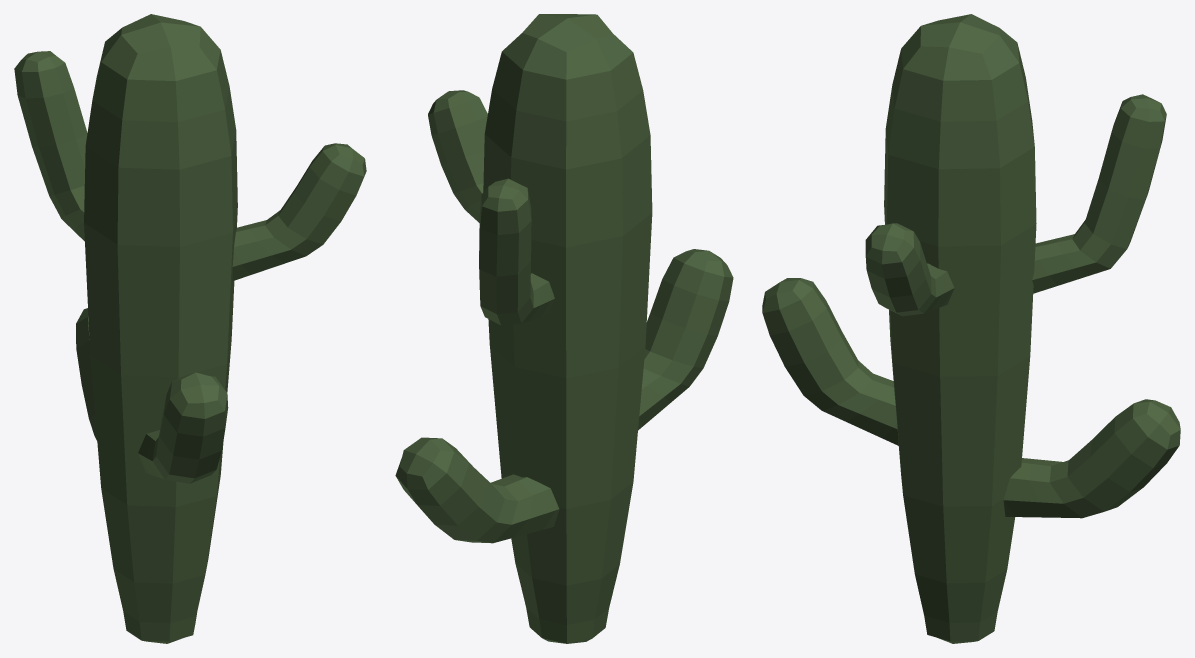
The model's file is Cactus_2.gltf.
The picture shows the model from 3 angles, left to right: view 1: azimuth 30°, elevation 25°; view 2: azimuth 150°, elevation 25°; view 3: azimuth 270°, elevation 25°; orthographic projection.
Parts seen in each view (by area): view 1: Cactus_2; view 2: Cactus_2; view 3: Cactus_2.
Part boxes in pixels (box(x1,y1,x2,y2)): Cactus_2: box(14, 14, 366, 643); Cactus_2: box(395, 14, 733, 643); Cactus_2: box(762, 14, 1180, 643).
Size of the model in its own units: 0.7002 by 1.7 by 1.05.
